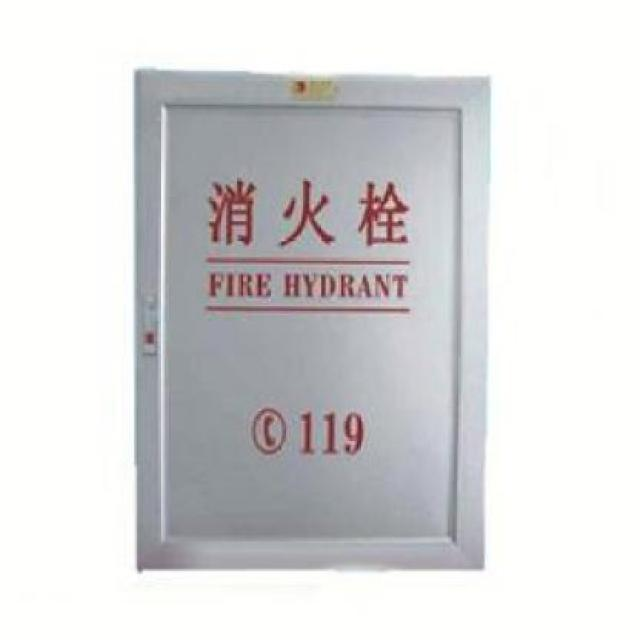firehydrant: (128, 63, 494, 576)
